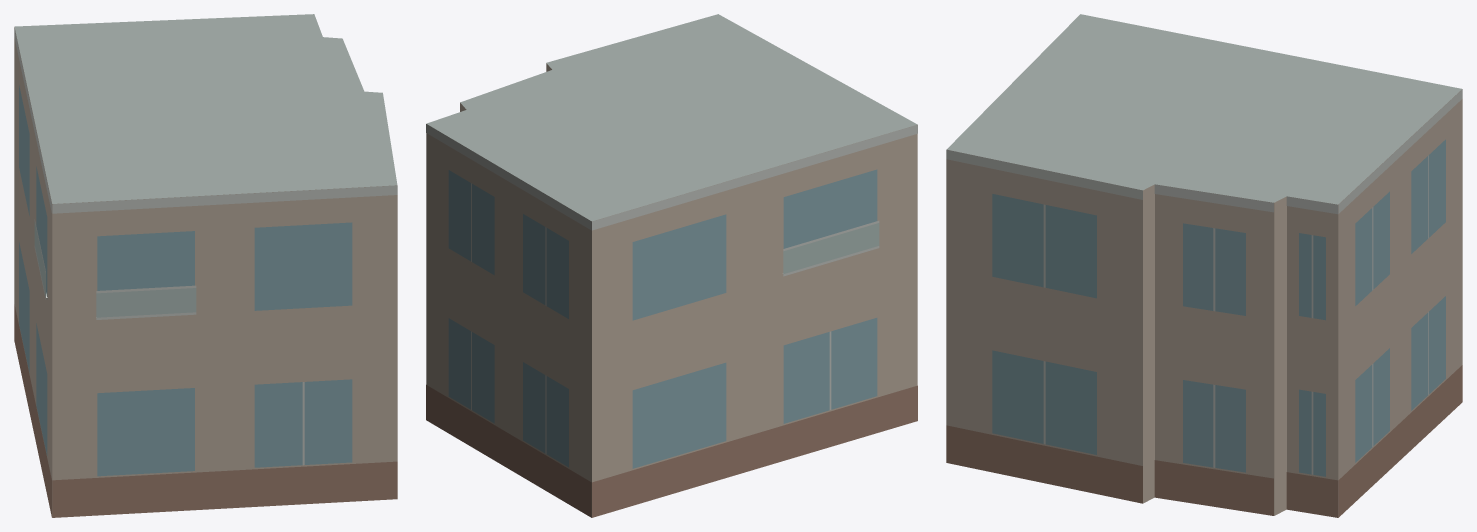
File: survey-upis-32633055.glb
3 views of the same model, side by side, from view 1: azimuth 30°, elevation 25°; view 2: azimuth 150°, elevation 25°; view 3: azimuth 270°, elevation 25° (orthographic). The views are drawn at different scales.
Visible parts, largest first — view 1: survey-upis-32633055.tmp; view 2: survey-upis-32633055.tmp; view 3: survey-upis-32633055.tmp.
Part boxes in pixels (bbox=[...]): survey-upis-32633055.tmp: bbox=[14, 14, 397, 517]; survey-upis-32633055.tmp: bbox=[426, 14, 917, 517]; survey-upis-32633055.tmp: bbox=[946, 14, 1462, 517].
Size of the model in its own units: 10.32 by 7.9 by 11.81.
